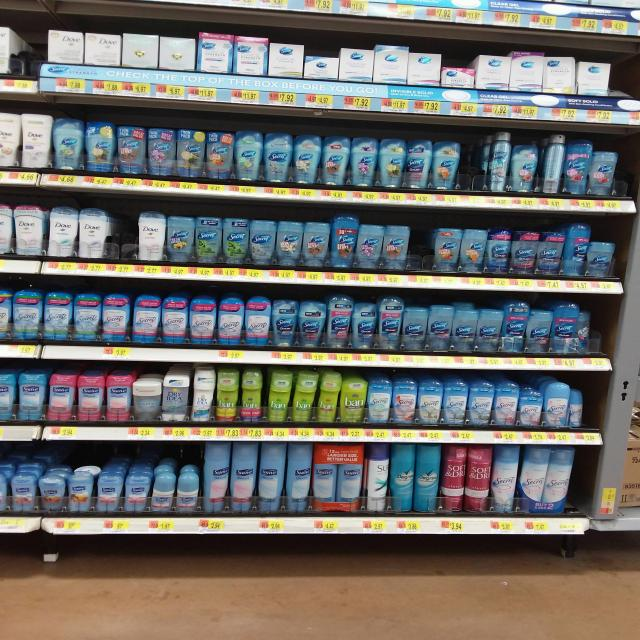empty: (460, 135, 483, 193), (574, 447, 592, 513), (18, 31, 44, 73), (114, 214, 137, 259), (613, 61, 638, 97), (582, 387, 601, 431)
